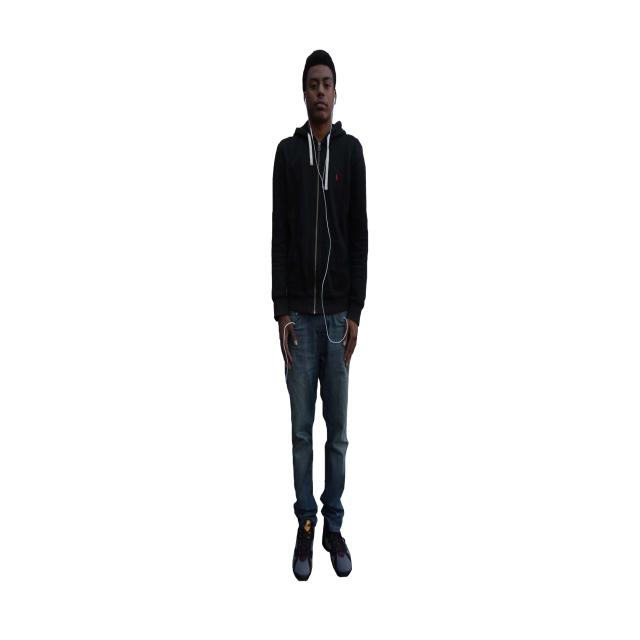jovem: (266, 47, 386, 604)
